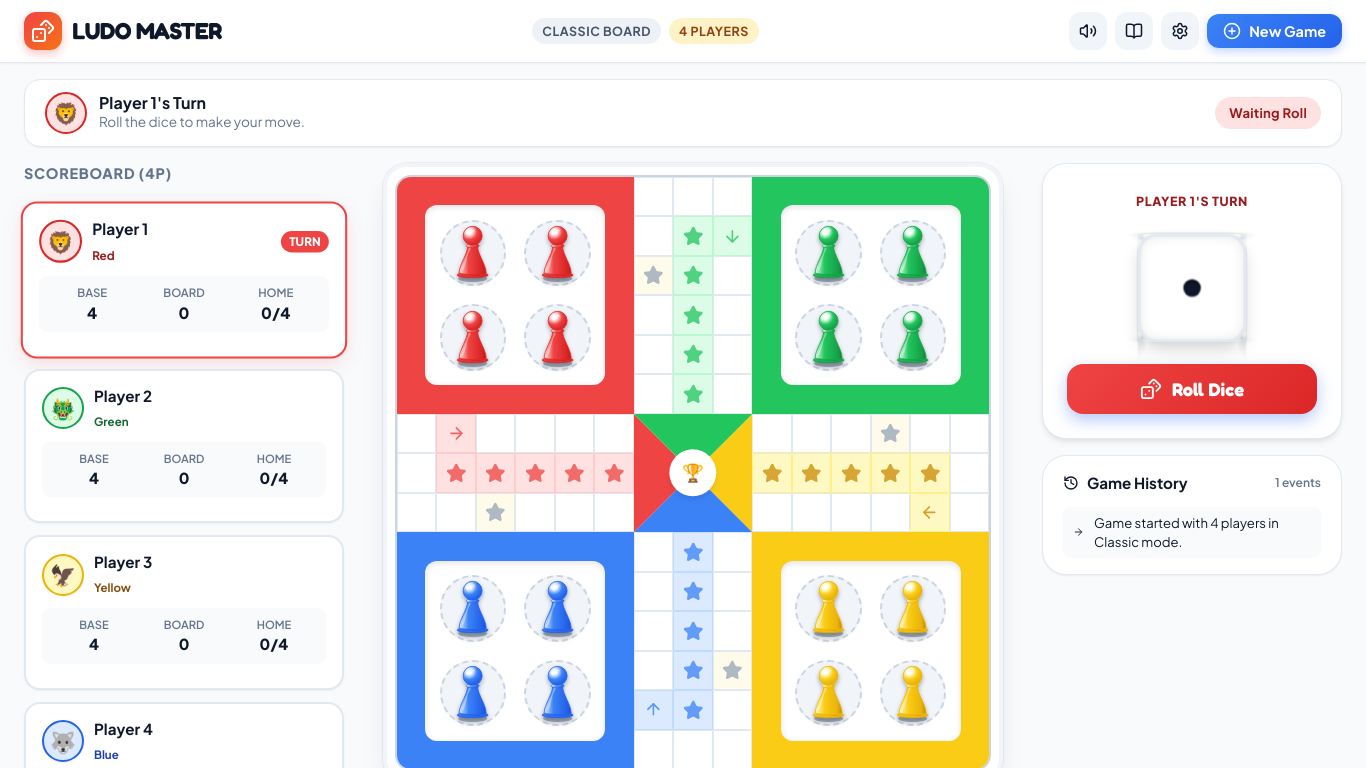
Test: App Full Integration Tests › opens New Game setup modal, confirms 5 and 6 players are removed, and switches to 2 players mode
This screenshot has width=1366, height=768.
Click the button "New Game" at (1275, 31), box [1207,14,1342,48]
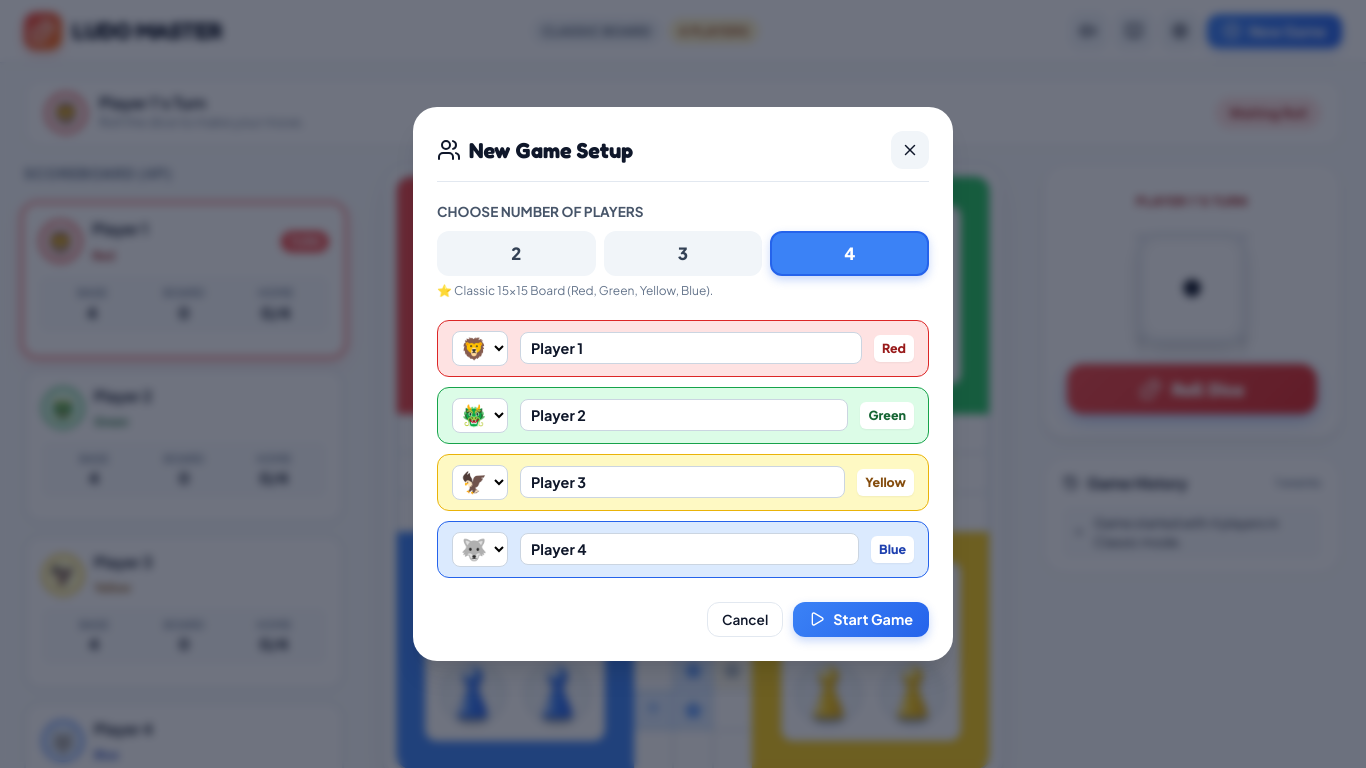
Now the heading "New Game Setup" is shown, box [469,134,633,166]
Click on 2 players selector
Click the button "2" at (516, 253), box [437,231,596,276]
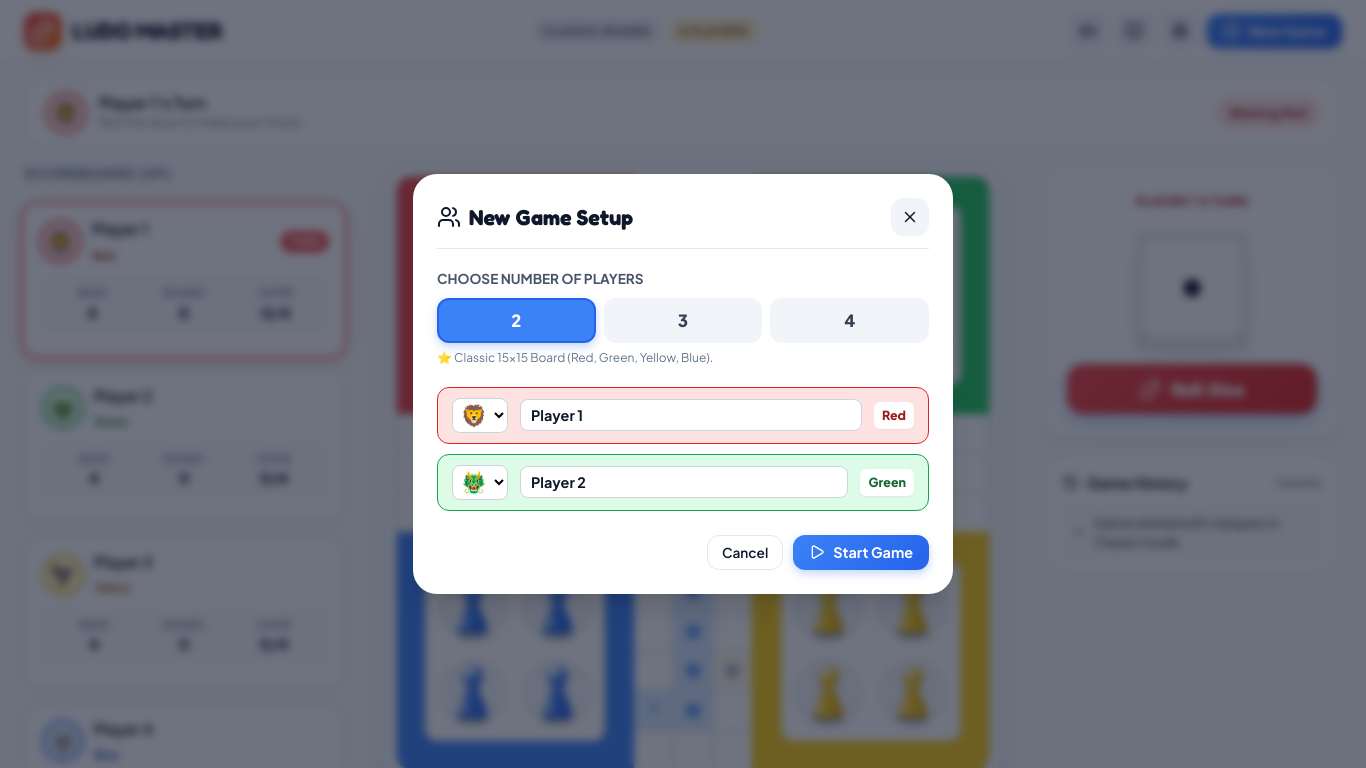
Now the text "⭐ Classic 15×15 Board (Red, Green, Yellow, Blue)." is shown, box [437,350,713,365]
Click Start Game
Click the button "Start Game" at (861, 552), box [793,535,929,570]
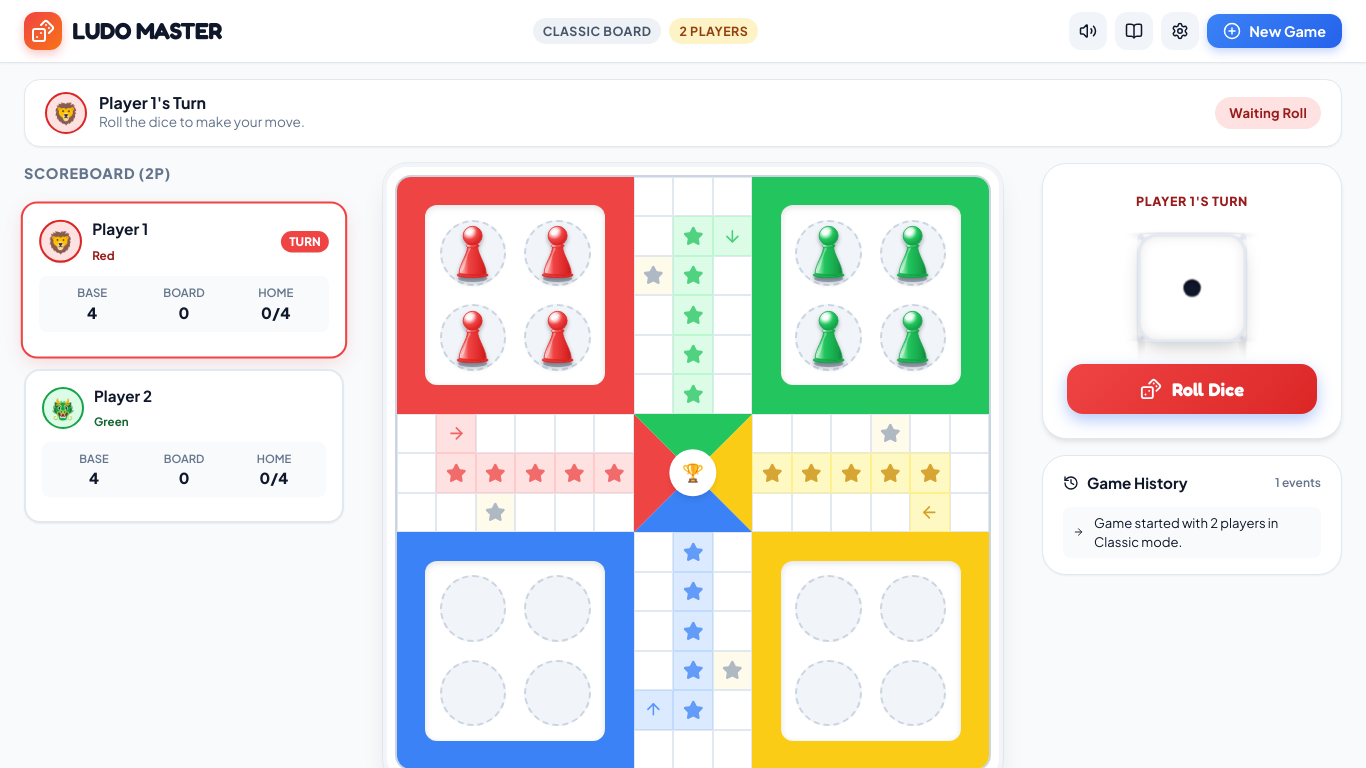
Now the heading "Scoreboard (2P)" is shown, box [24,163,171,185]
Now the heading "Player 3" is gone
Now the heading "Player 4" is gone
